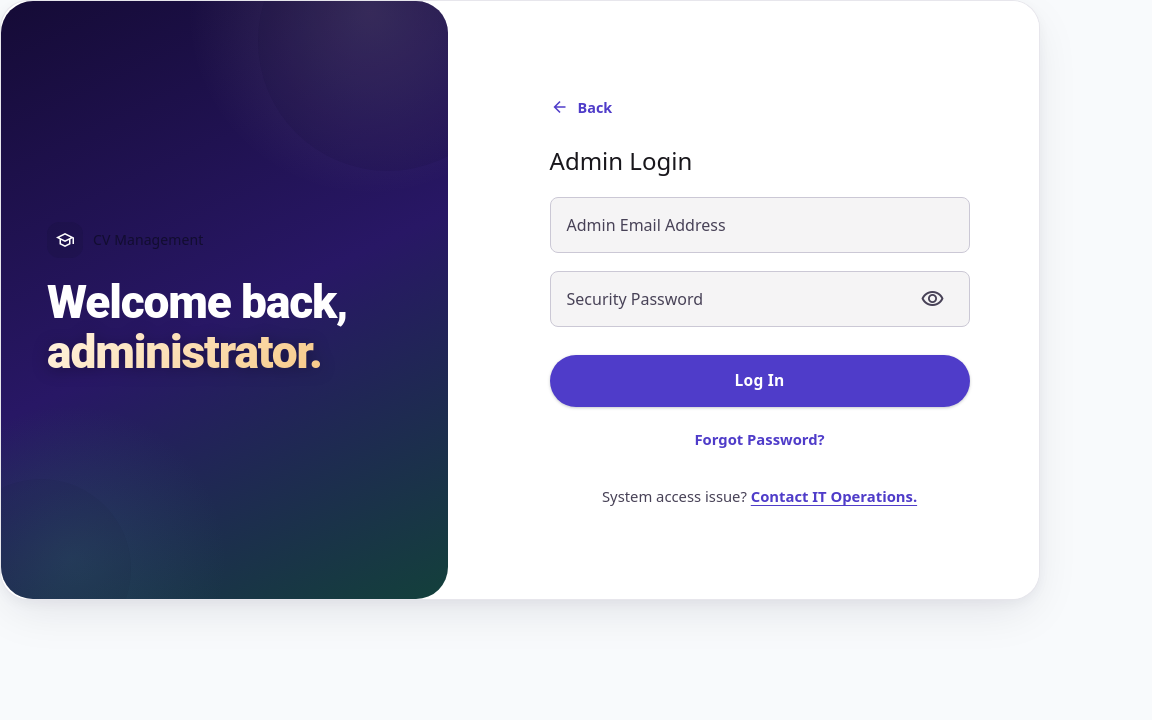
Test: admin Sprint 2 authentication › rejects incorrect local Admin test credentials safely
The image size is (1152, 720).
Type "admin@dcs.ruh.ac.lk" into the field labelled "Admin Email Address" at [760, 225], box top-left (566, 198), bottom-right (952, 252)
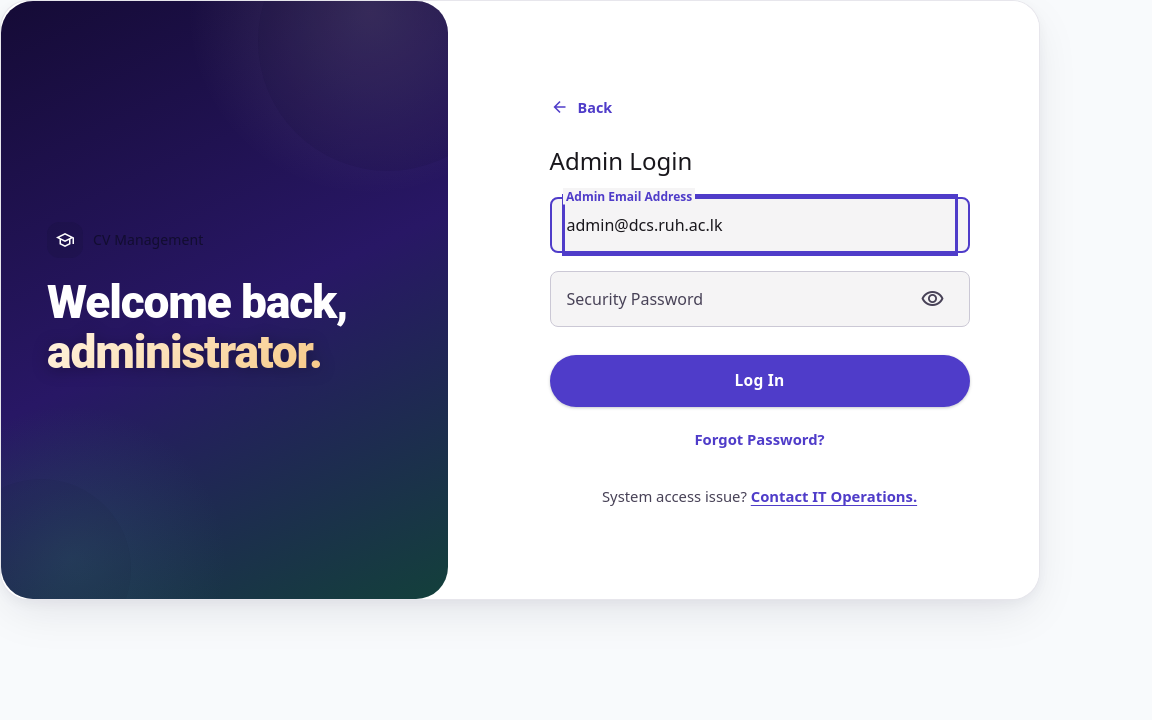
Type "WrongPassword@123" into the password field labelled "Security Password" at [738, 299], box top-left (566, 272), bottom-right (908, 326)
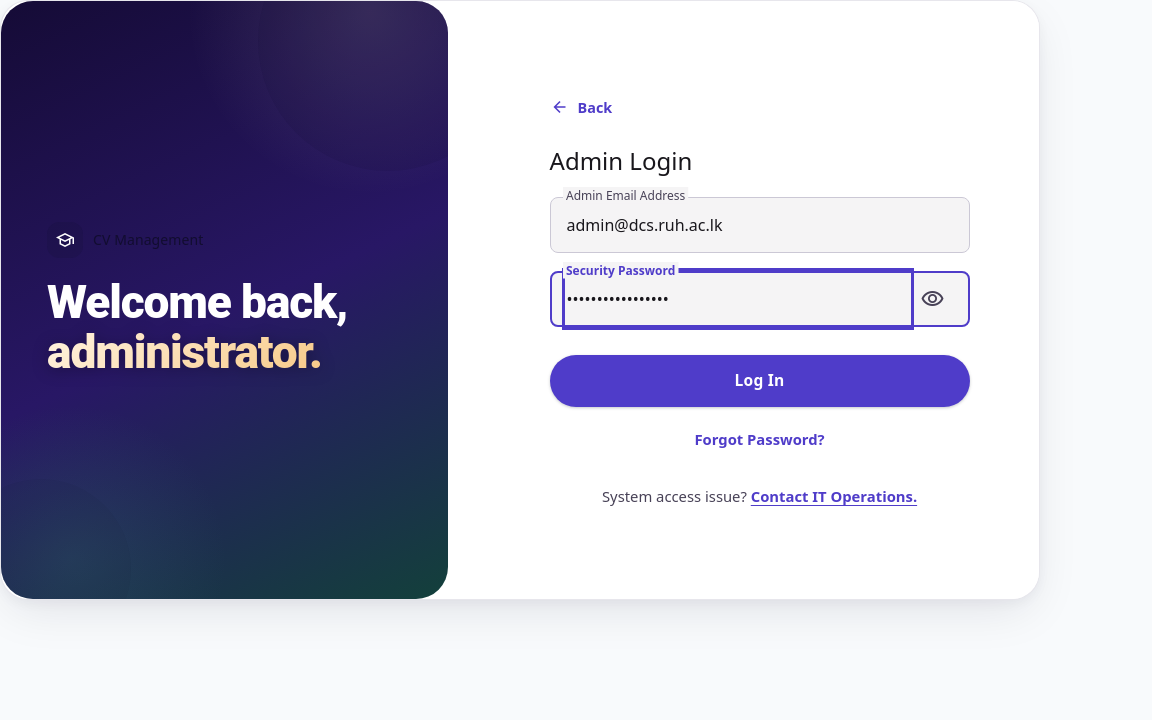
Click the button "Log In" at [760, 381], box top-left (550, 355), bottom-right (970, 407)
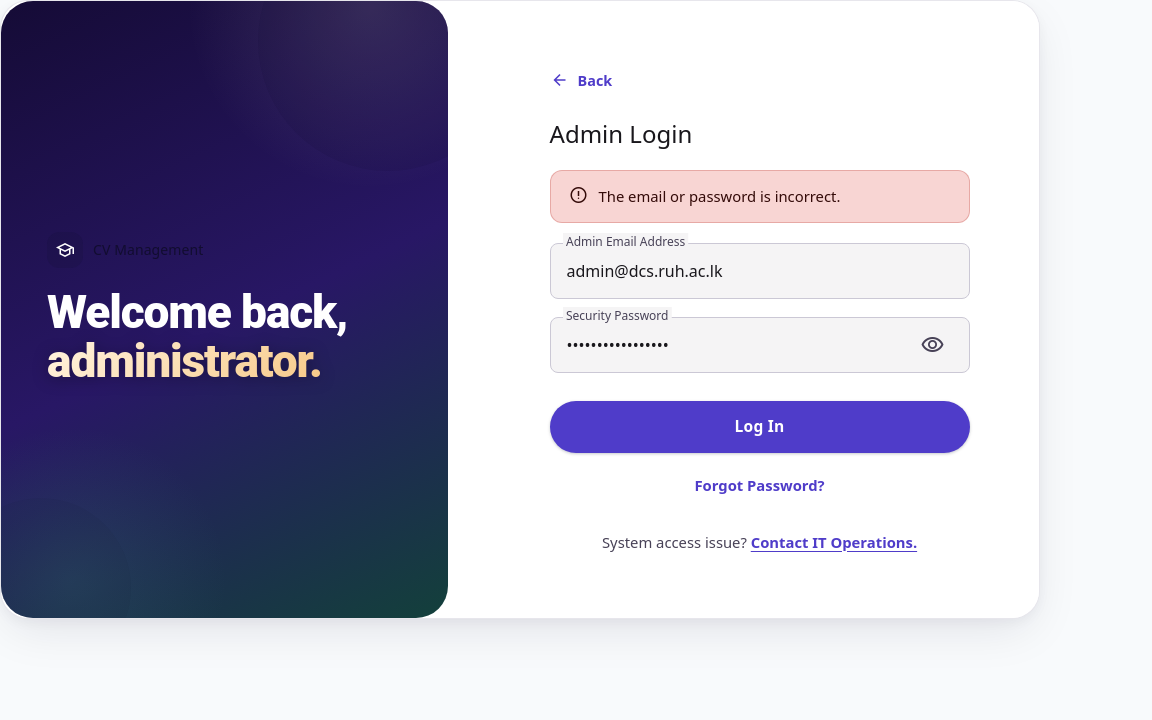
expect the message reads "The email or password is incorrect.": met, box top-left (598, 186), bottom-right (840, 206)
